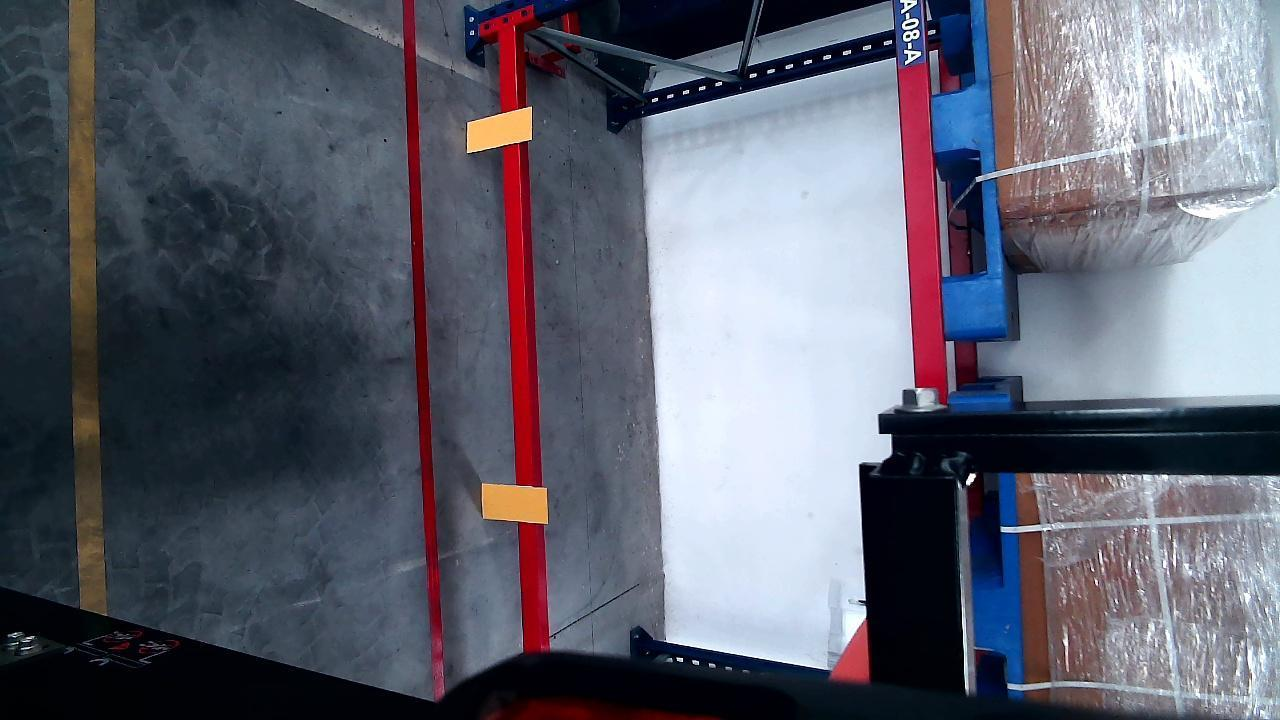h_rack: (495, 26, 547, 660), (891, 0, 943, 383)
orange_strip: (464, 107, 532, 153), (480, 482, 548, 523)
red_line: (404, 5, 441, 696)
small_pallet: (922, 0, 1007, 339)
yellow_line: (67, 0, 102, 614)
